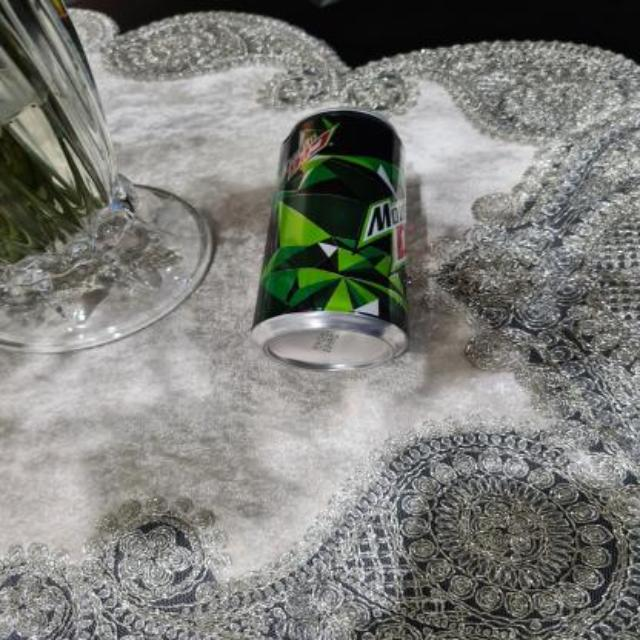metal: (251, 108, 405, 366)
